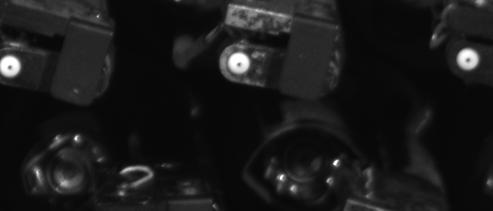fiber: (453, 45, 484, 76), (223, 50, 253, 77), (1, 53, 24, 80)
